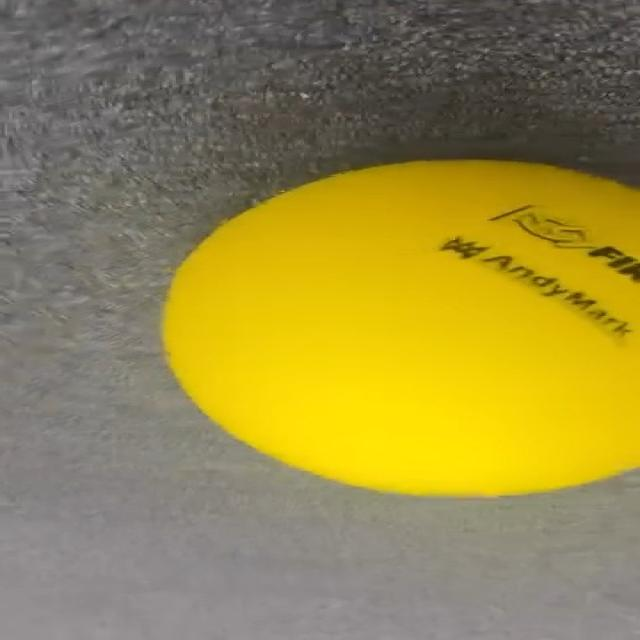Fuels: (164, 157, 638, 498)
